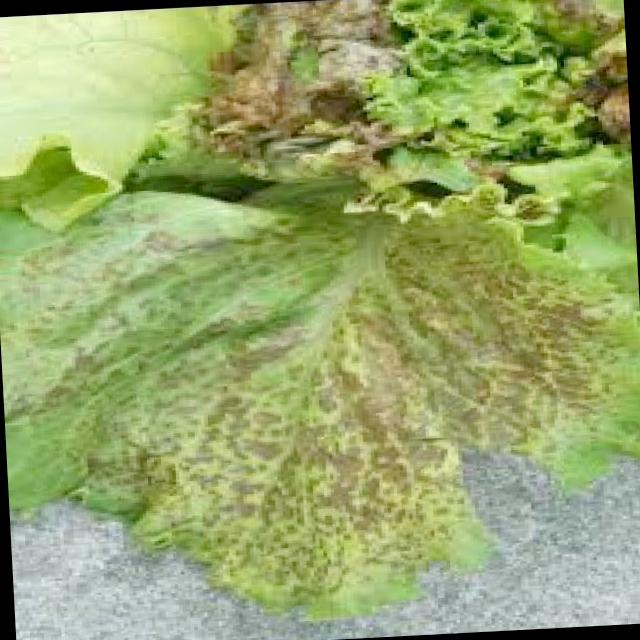Septoria_Blight: (0, 153, 639, 599)
